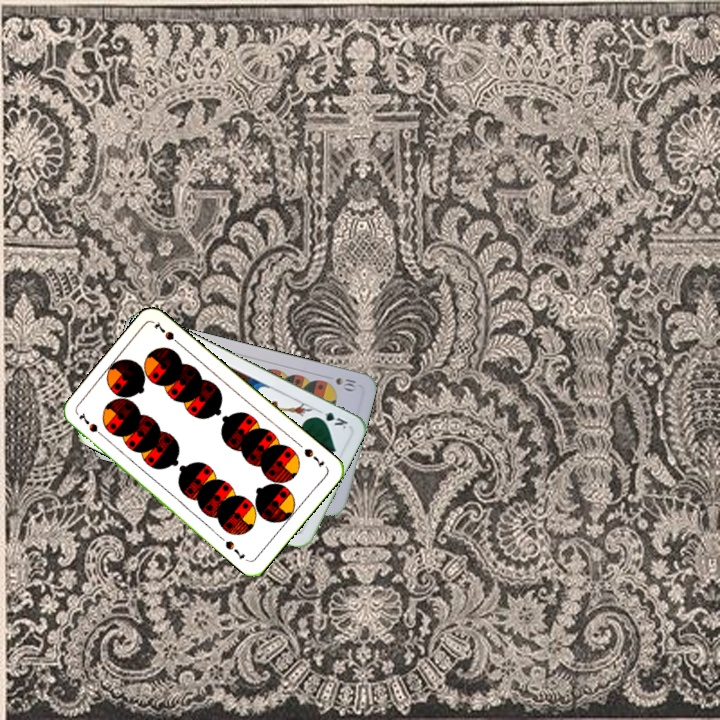GK: (311, 405, 351, 432)
S10: (331, 373, 359, 394)
S7: (75, 409, 108, 441), (300, 444, 327, 470)
